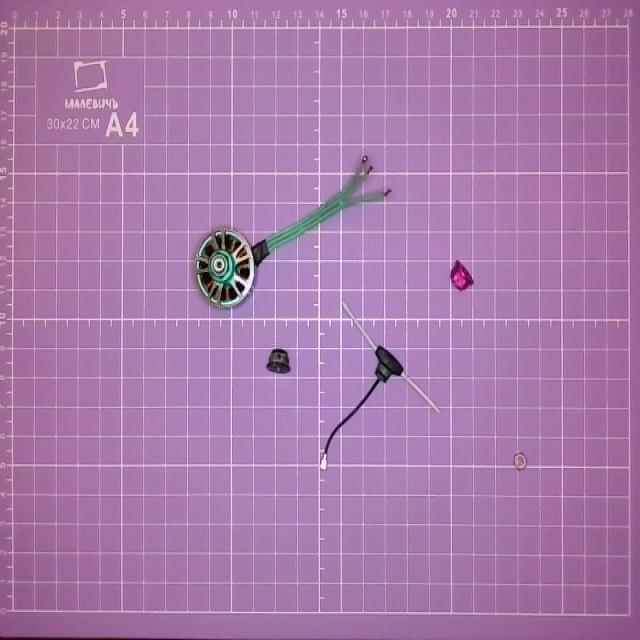antenna: (318, 300, 442, 470)
motor: (184, 150, 394, 310)
screw_M3: (507, 446, 535, 484)
screw_M5: (264, 343, 300, 386), (440, 262, 482, 294)
